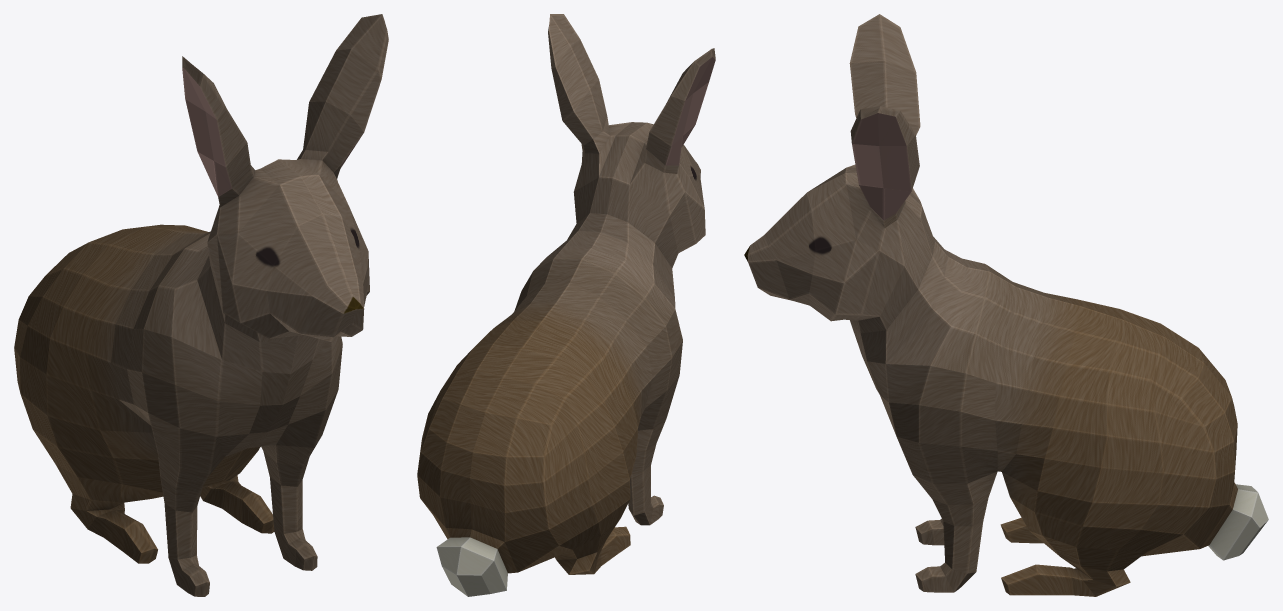
File: Cottontail rabbit.glb
The picture shows the model from 3 angles, left to right: view 1: azimuth 30°, elevation 25°; view 2: azimuth 150°, elevation 25°; view 3: azimuth 270°, elevation 25°; orthographic projection. The views are drawn at different scales.
Parts seen in each view (by area): view 1: node-0; view 2: node-0; view 3: node-0.
Part boxes in pixels (bbox=[...]): node-0: bbox=[14, 14, 388, 596]; node-0: bbox=[417, 14, 715, 596]; node-0: bbox=[744, 14, 1268, 596].
Size of the model in its own units: 3.23 by 7.63 by 7.13.
Materials: 1 (1 with a texture image).
